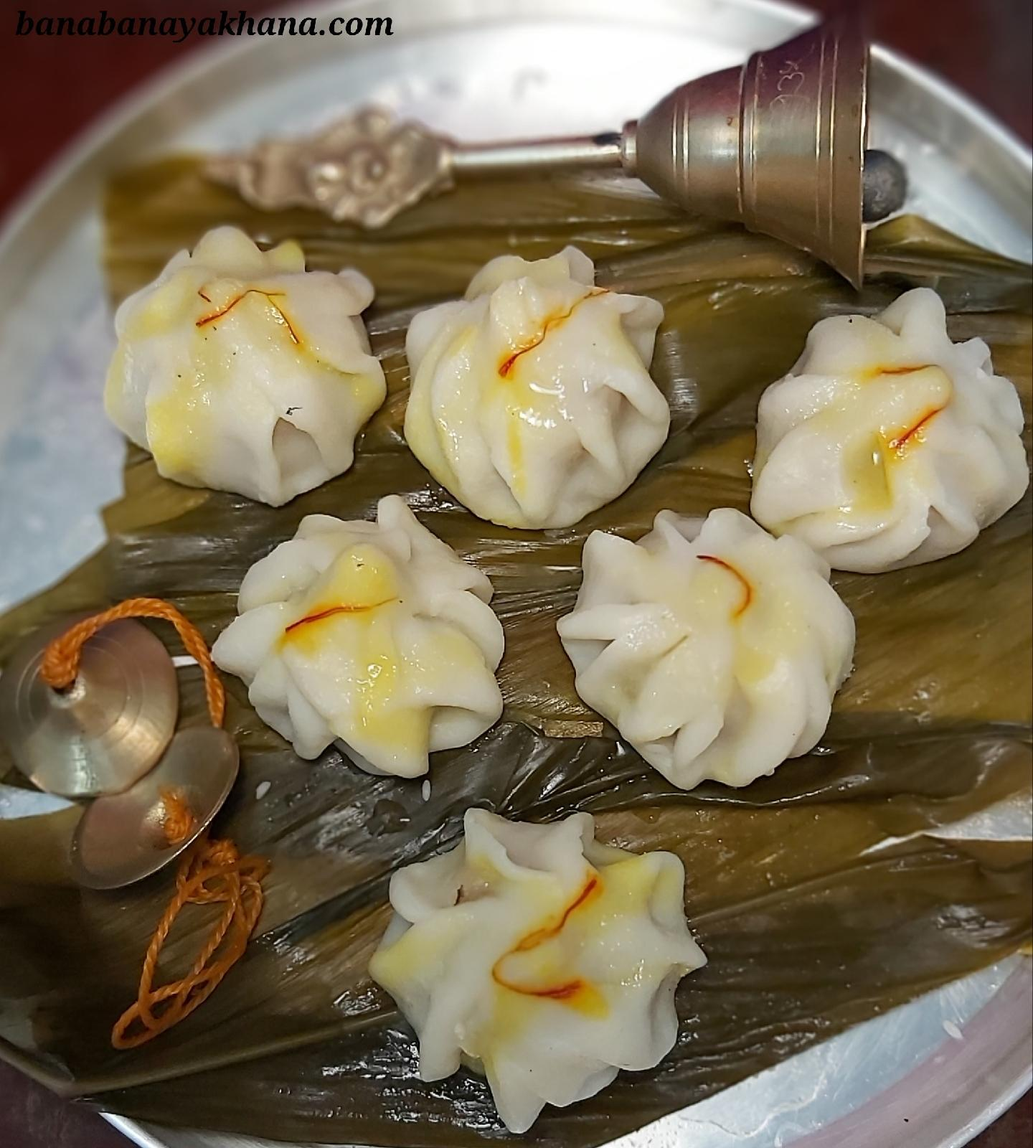modak: (407, 818, 719, 1109), (716, 278, 1006, 563), (226, 552, 579, 784), (420, 287, 671, 517), (159, 249, 395, 491), (618, 550, 828, 768)
